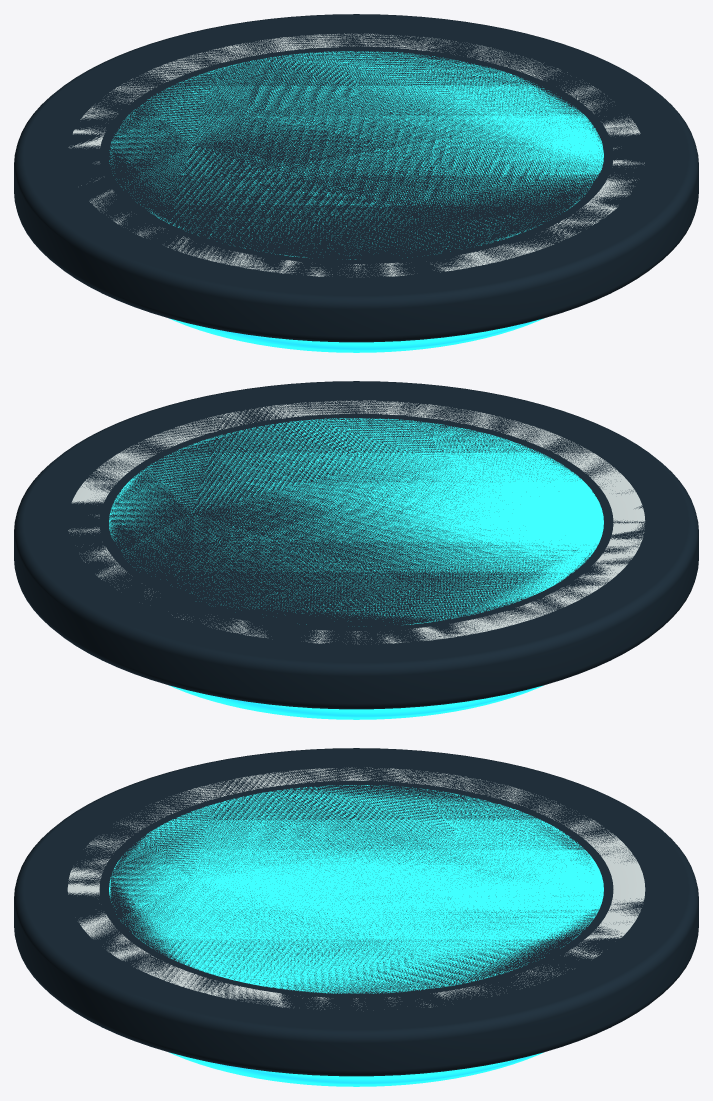
The model's file is SM_TestArena_SwitchDot.glb.
3 renders of one model, top to bottom at view 1: azimuth 30°, elevation 25°; view 2: azimuth 150°, elevation 25°; view 3: azimuth 270°, elevation 25°, orthographic.
Visible parts, largest first — view 1: SM_TestArena_SwitchDot; view 2: SM_TestArena_SwitchDot; view 3: SM_TestArena_SwitchDot.
Part boxes in pixels (x1,y1,x2,y2): SM_TestArena_SwitchDot: (14, 14, 698, 352); SM_TestArena_SwitchDot: (14, 381, 698, 719); SM_TestArena_SwitchDot: (14, 748, 698, 1086).
Size of the model in its own units: 0.2048 by 0.03 by 0.2048.
